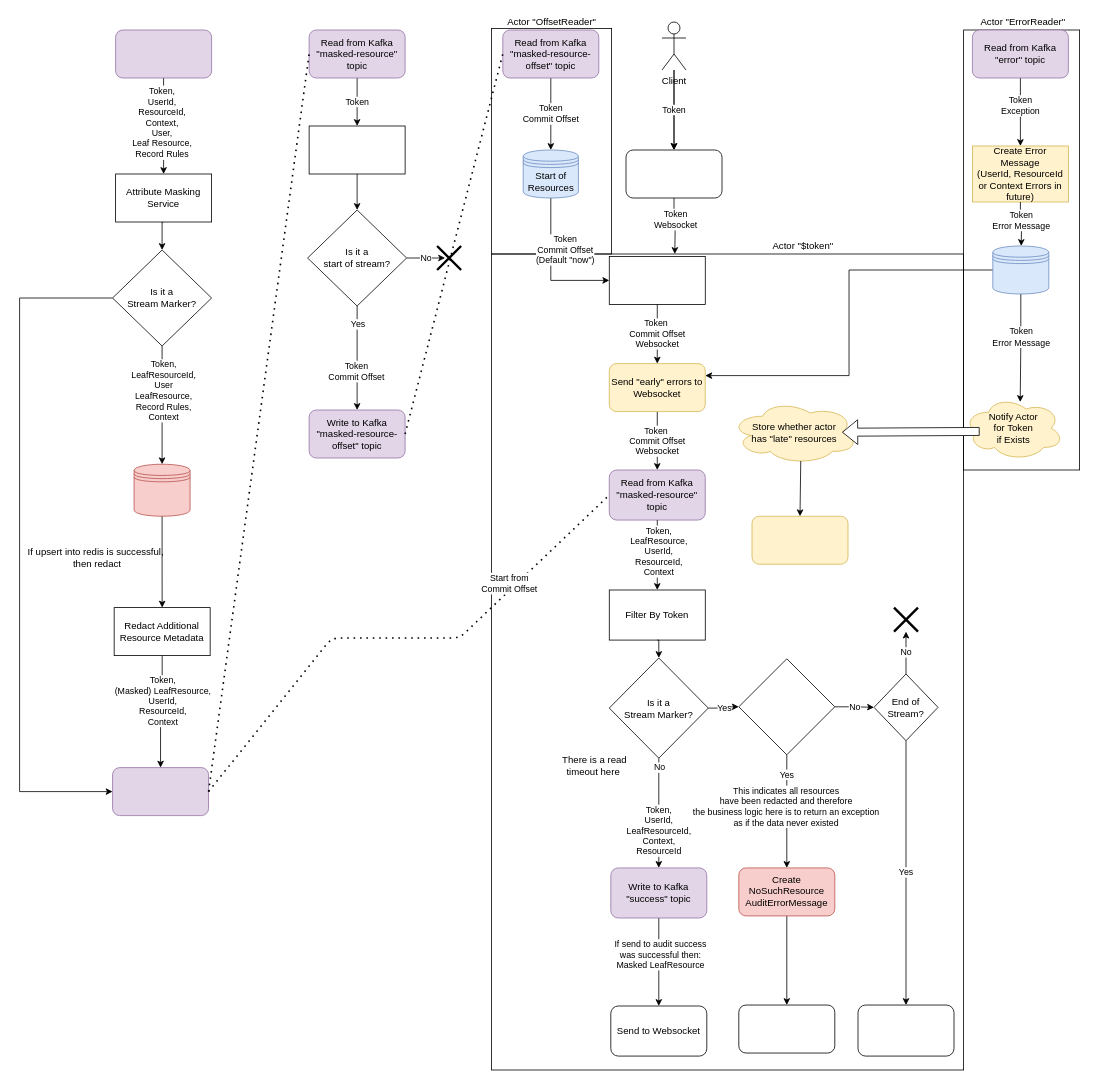
Some shapes in this 1094 by 1084 pixel diagram are drawn without their labels. The centre of each missing label's shape, as x and y in pixels:
Authorised Requests: point (161, 489)
Close Websocket: point (905, 1030)
Create Websocket(s): point (673, 173)
Error Messages: point (1020, 269)
ProcessResources: point (656, 280)
Read from Kafka "rule" topic: point (163, 53)
Send "late" errors to Websocket: point (799, 539)
Send "NoSuchResource" exception to error queue: point (786, 1028)
Start of Stream followed immediately by End of Stream?: point (786, 706)
Topic Offset Service: point (356, 149)
Write to Kafka "masked-resource" topic: point (160, 791)
